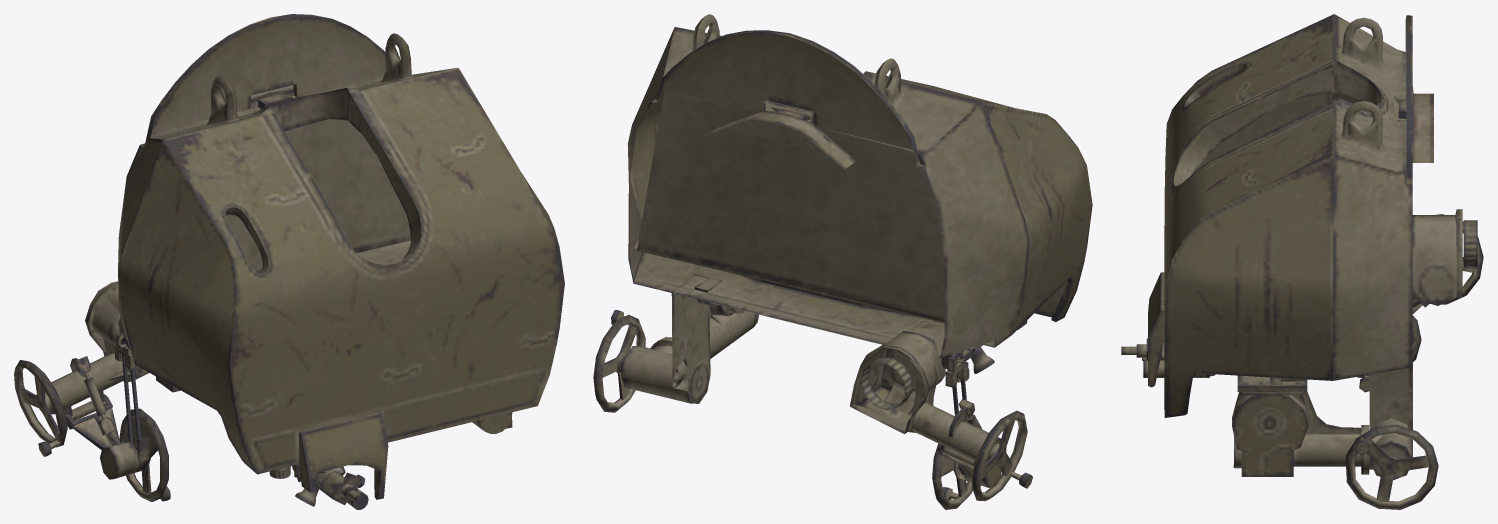
Rendered from Turret_01.glb.
3 views of the same model, side by side, from view 1: azimuth 30°, elevation 25°; view 2: azimuth 150°, elevation 25°; view 3: azimuth 270°, elevation 25° (orthographic). The views are drawn at different scales.
Visible parts, largest first — view 1: set_0_group_0; view 2: set_0_group_0; view 3: set_0_group_0.
Boxes of the visible parts, <box> form: set_0_group_0: <box>14,14,564,509</box>; set_0_group_0: <box>593,14,1092,509</box>; set_0_group_0: <box>1121,14,1483,509</box>.
Bounding box in the file's own units: 1.28 × 1.25 × 0.9688.
Materials: 1 (1 with a texture image).
